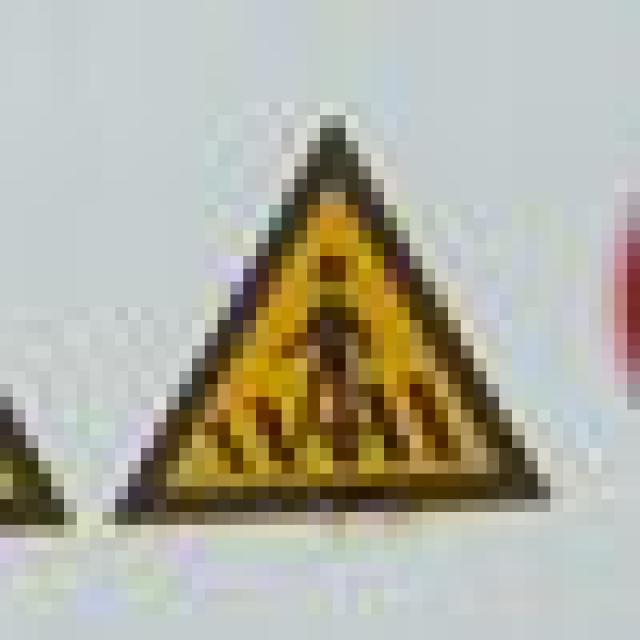pass_either_side: (90, 102, 563, 512)
